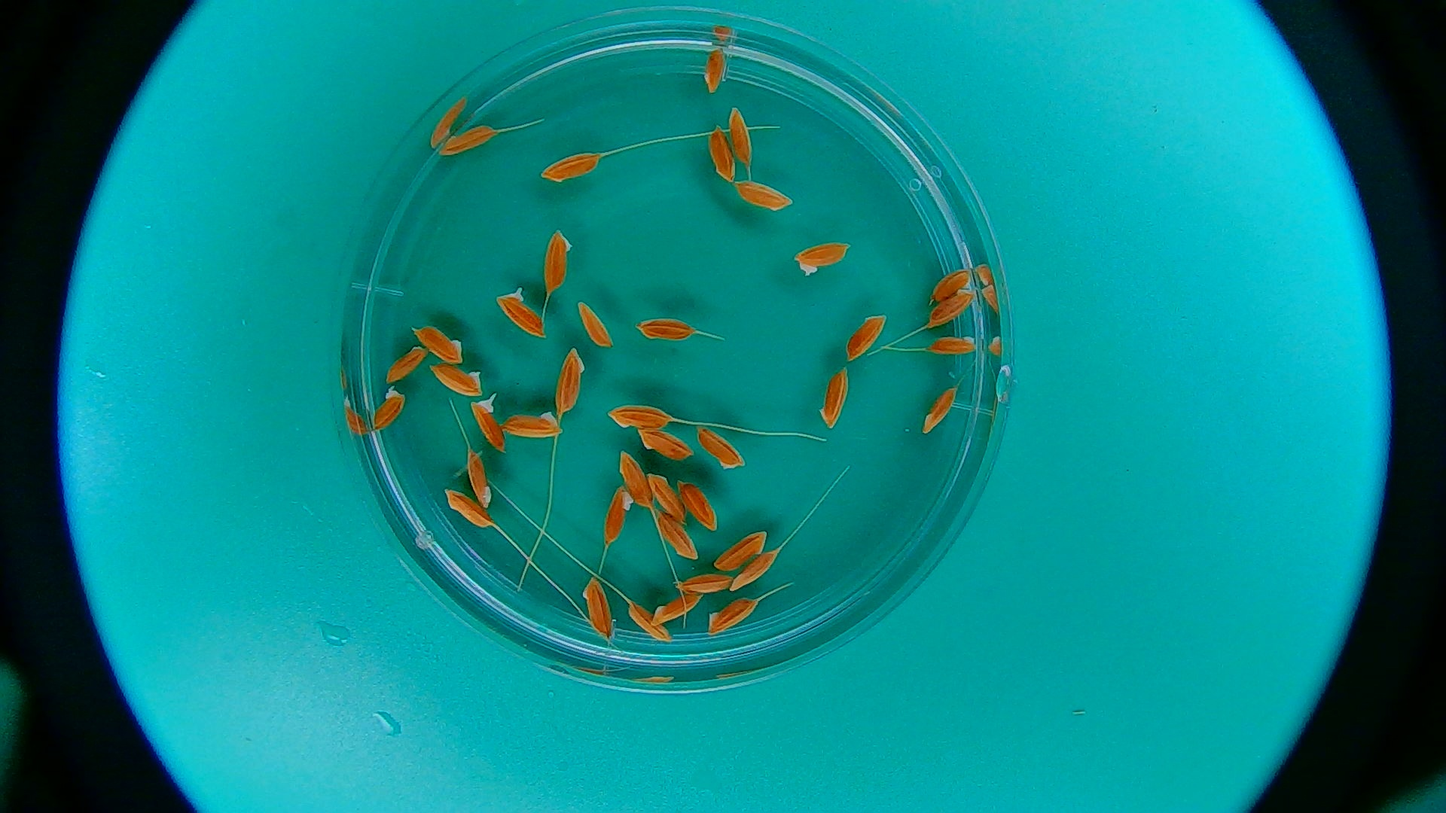no: (843, 308, 891, 364), (712, 525, 770, 571), (410, 322, 466, 367), (727, 547, 779, 595), (694, 421, 741, 470), (919, 382, 959, 437), (429, 358, 485, 397), (617, 451, 654, 508), (439, 120, 496, 157), (538, 150, 606, 181), (705, 598, 760, 636), (555, 349, 584, 420), (576, 300, 615, 352), (636, 429, 697, 462), (679, 483, 721, 530), (646, 472, 687, 520), (818, 364, 849, 427), (657, 514, 701, 558), (930, 264, 974, 308), (386, 341, 431, 384), (496, 407, 558, 438), (541, 227, 571, 291), (928, 289, 974, 330), (654, 589, 702, 628), (795, 240, 851, 273), (633, 315, 700, 342), (443, 492, 493, 528), (624, 604, 669, 644), (706, 127, 736, 185), (464, 450, 496, 504), (582, 579, 611, 638), (922, 328, 981, 357), (671, 570, 736, 596), (727, 103, 753, 168), (736, 182, 794, 209), (612, 404, 678, 427), (603, 489, 630, 542), (700, 45, 726, 93)
yes: (496, 291, 546, 343), (468, 399, 503, 455), (371, 387, 407, 430)
